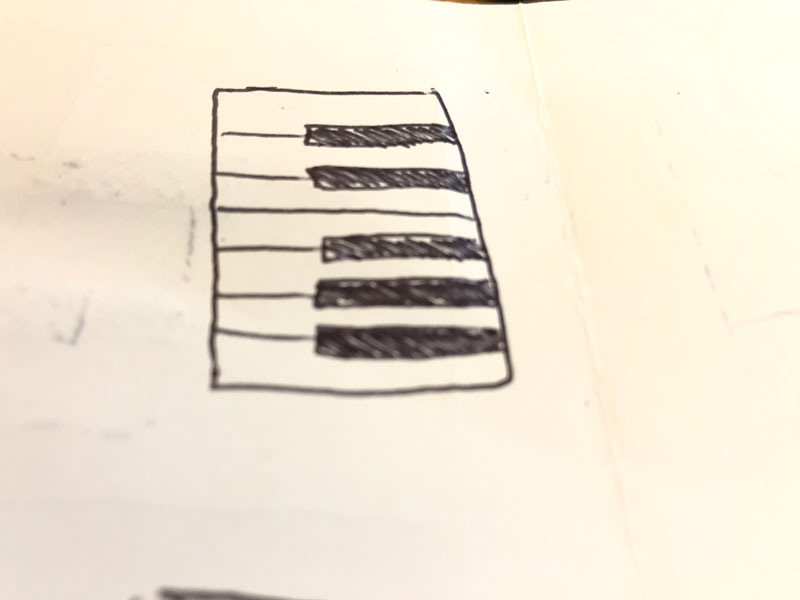piano: (202, 69, 516, 396)
